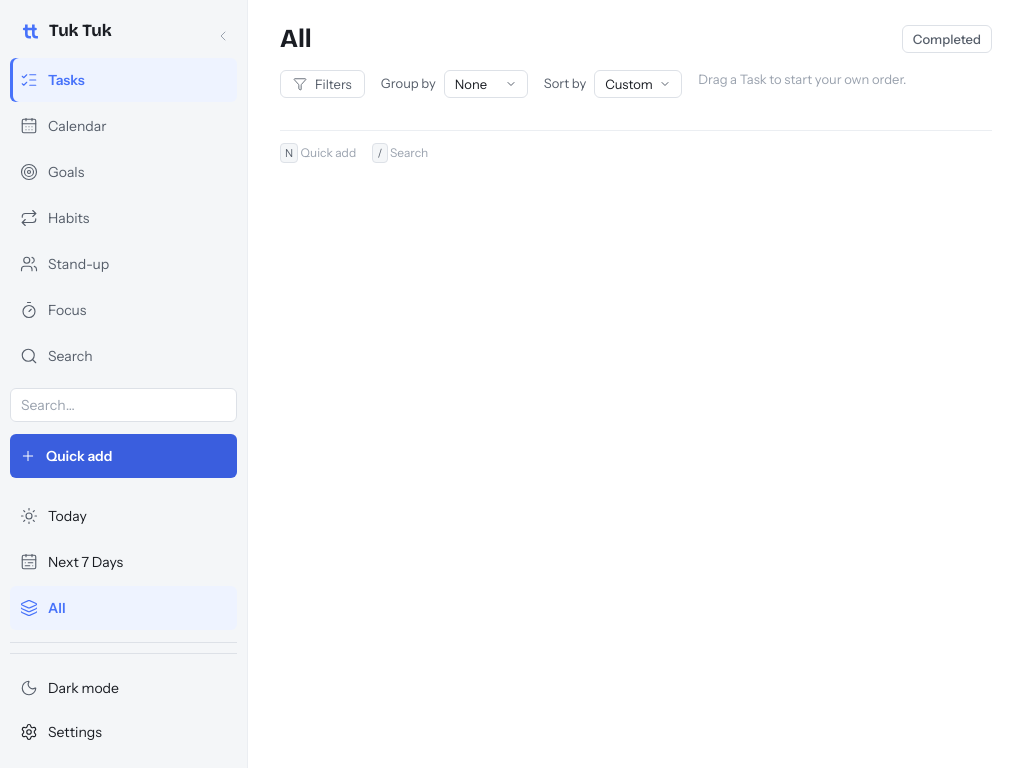
Smart Lists › All shows open tasks across Lists and none of the completed ones
Click the button "All" at (124, 608), box [10,586,237,630]
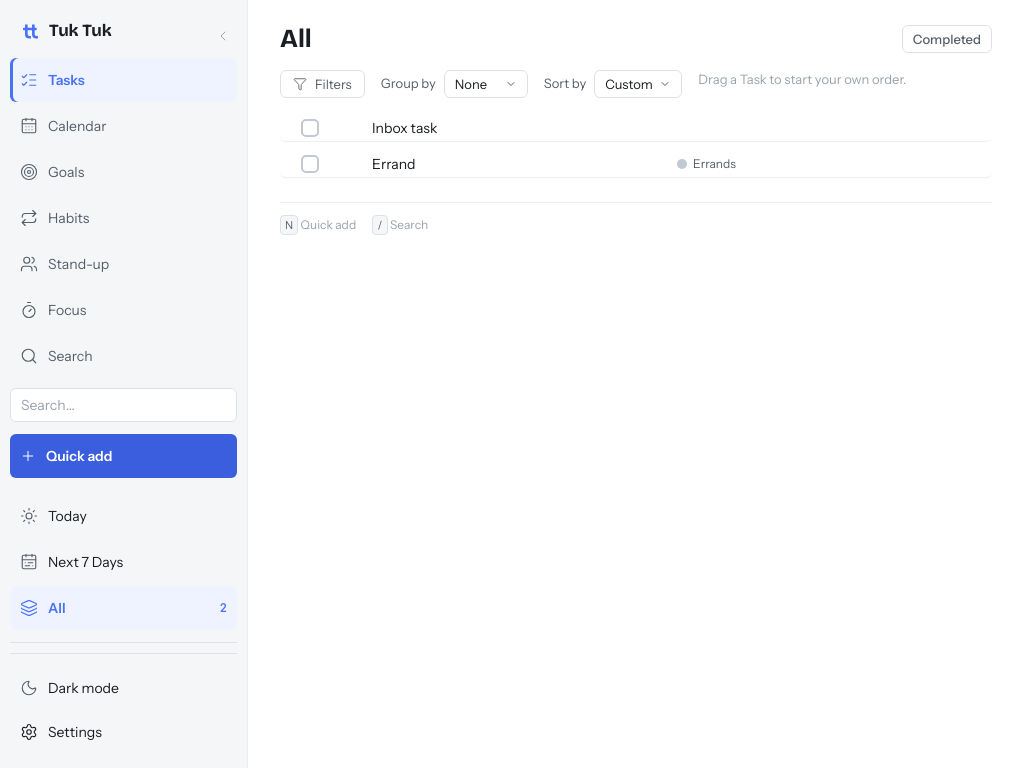
Expected: the heading "All" is shown, [280,24,312,54]
Expected: the button with aria-label "Open details for Inbox task" is shown, [372,119,608,137]
Expected: the button with aria-label "Open details for Errand" is shown, [372,155,608,173]
